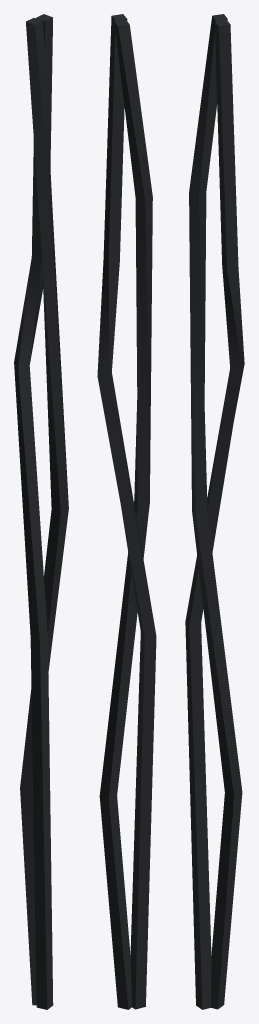
File: SM_Prop_Wire_Pole_01.glb
3 views of the same model, side by side, from view 1: azimuth 90°, elevation 25°; view 2: azimuth 150°, elevation 25°; view 3: azimuth 330°, elevation 25° (orthographic).
Visible parts, largest first — view 1: SM_Prop_Wire_Pole_01; view 2: SM_Prop_Wire_Pole_01; view 3: SM_Prop_Wire_Pole_01.
Part boxes in pixels (left/top/right/bottom): SM_Prop_Wire_Pole_01: left=14, top=14, right=68, bottom=1009; SM_Prop_Wire_Pole_01: left=97, top=14, right=156, bottom=1009; SM_Prop_Wire_Pole_01: left=185, top=14, right=244, bottom=1009.
Bounding box in the file's own units: 0.1718 × 3.08 × 0.1564.
Materials: 1 (1 with a texture image).
